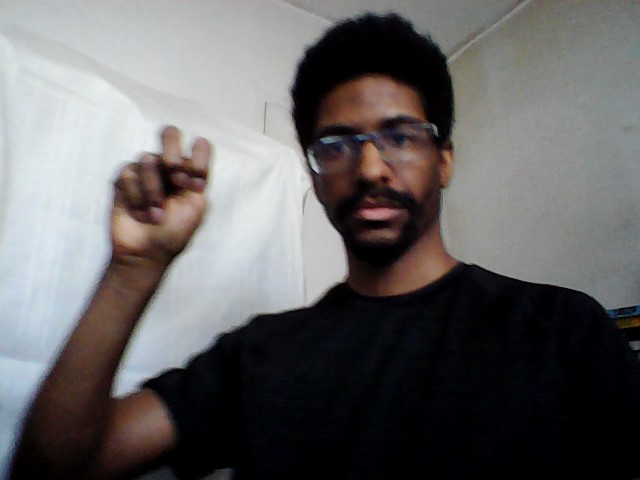n: (105, 120, 217, 268)
